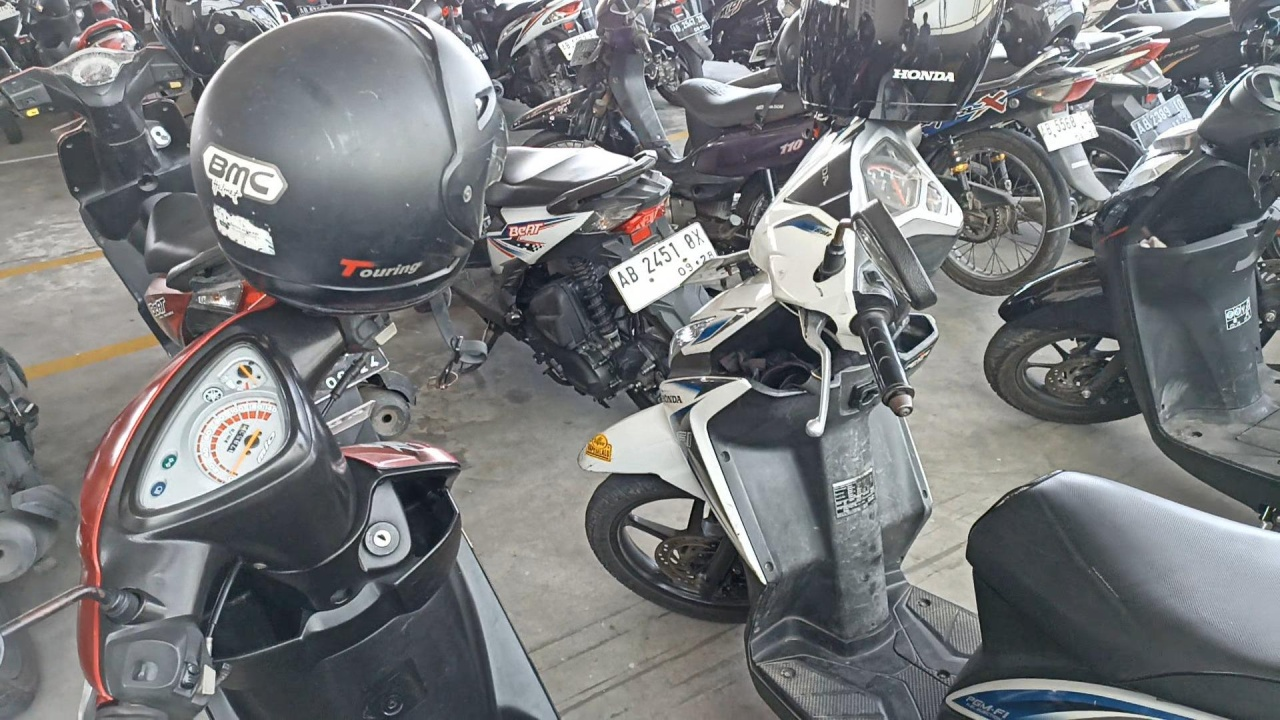plate: (610, 221, 720, 313)
